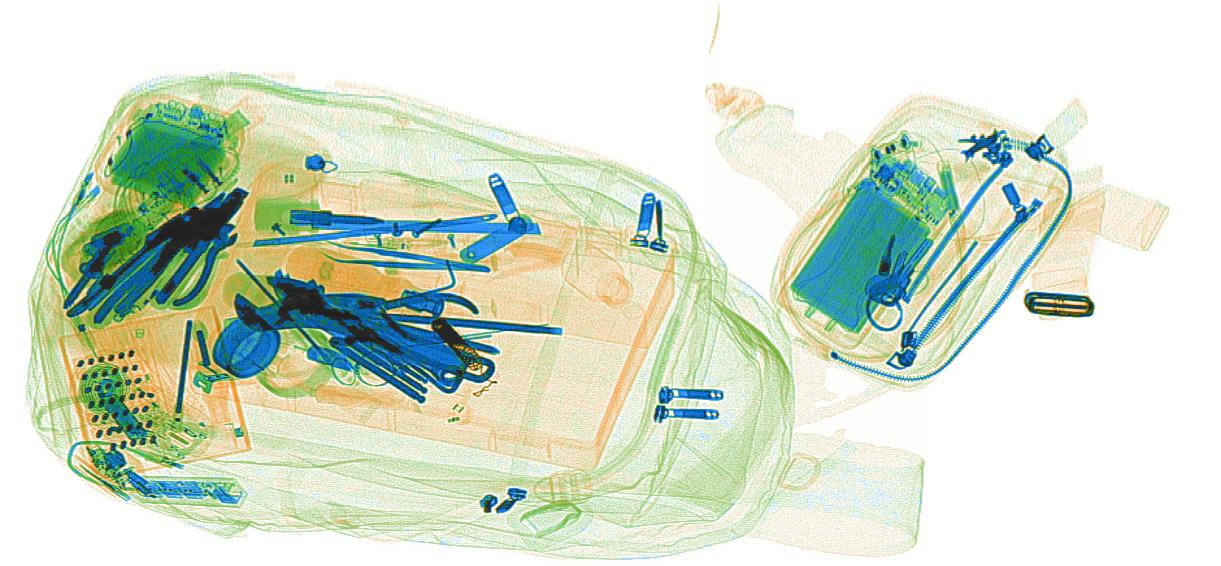battery: (103, 392, 146, 441)
lighter: (112, 268, 172, 325)
